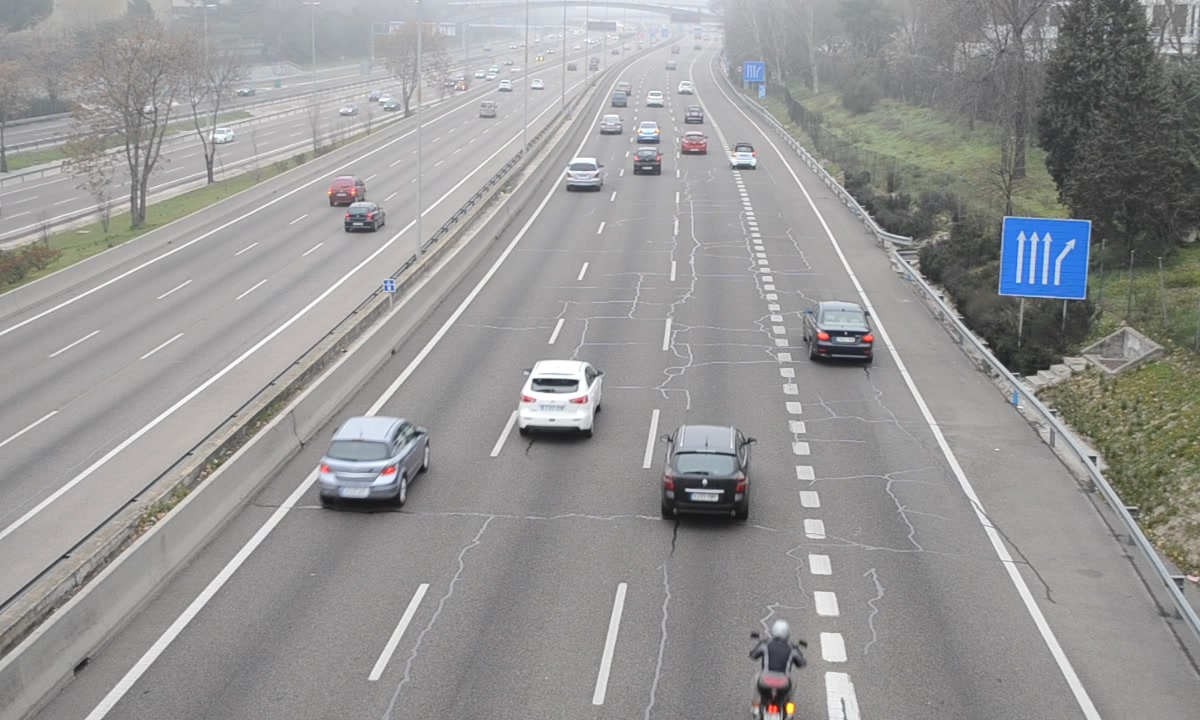car: (318, 417, 425, 508), (660, 426, 752, 526), (518, 358, 606, 439), (803, 301, 873, 364), (565, 158, 604, 193), (729, 141, 757, 171), (634, 146, 662, 175), (681, 131, 709, 157), (636, 120, 662, 145), (598, 114, 624, 137)
motorcycle: (745, 619, 810, 720)
